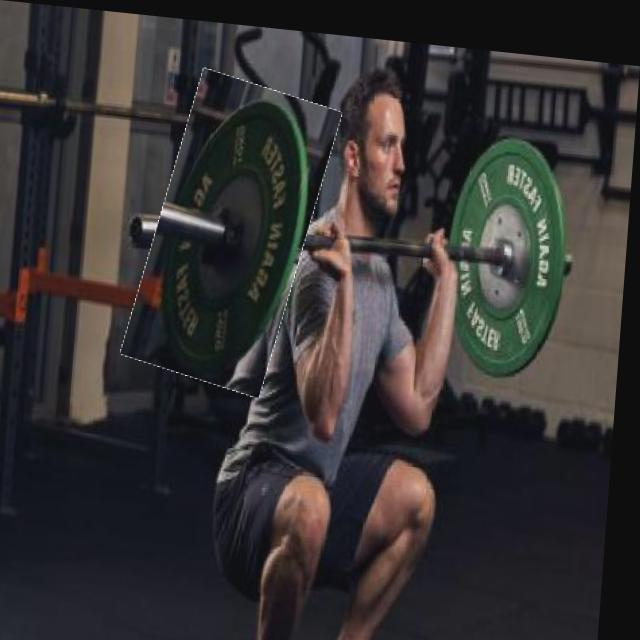barbell: (139, 66, 331, 391)
